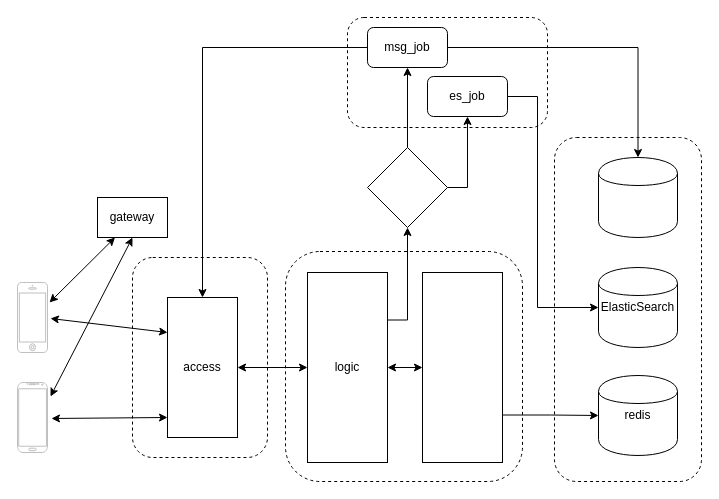
The diagram is 719 pixels wide and 499 high, and some of its shapes have lost their labels. Here are the shapes that lost their labels. From the top down, the centre of each, then its label:
At [407,187]: "Kafka".
At [638,197]: "mongoDB".
At [462,367]: "register".
